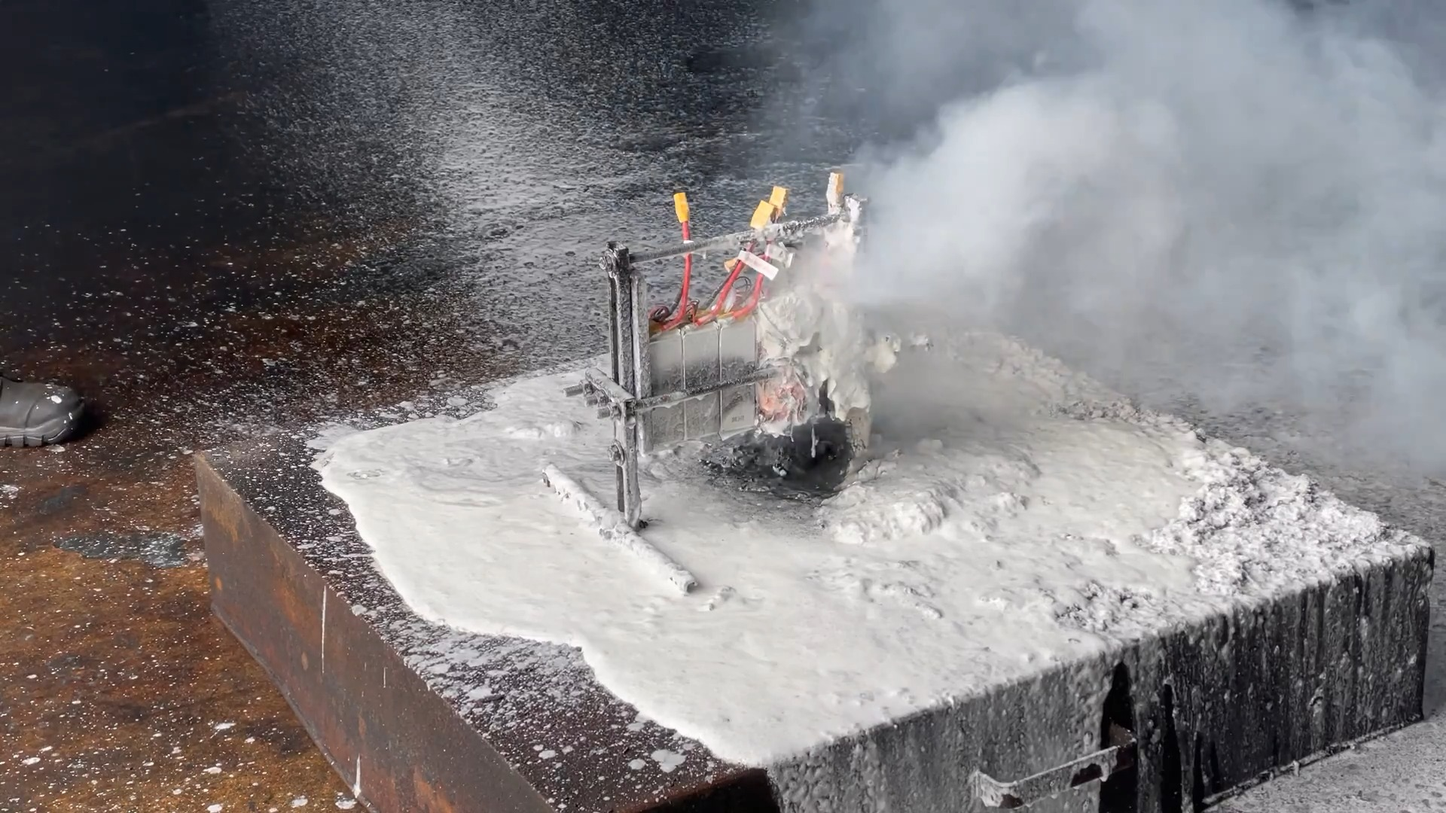smoke: (794, 0, 1446, 437)
